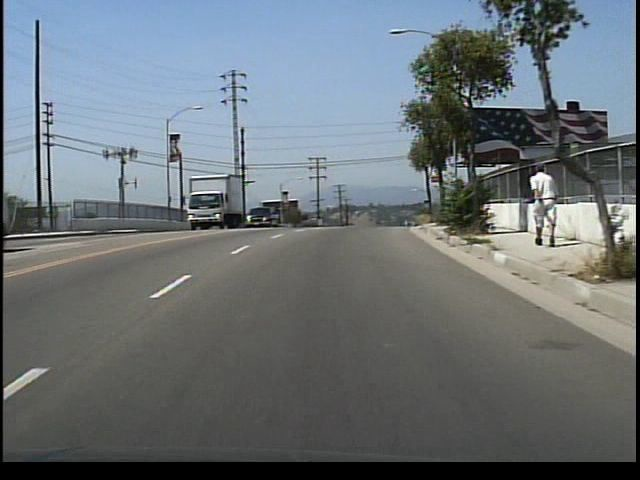person: (526, 161, 559, 249)
